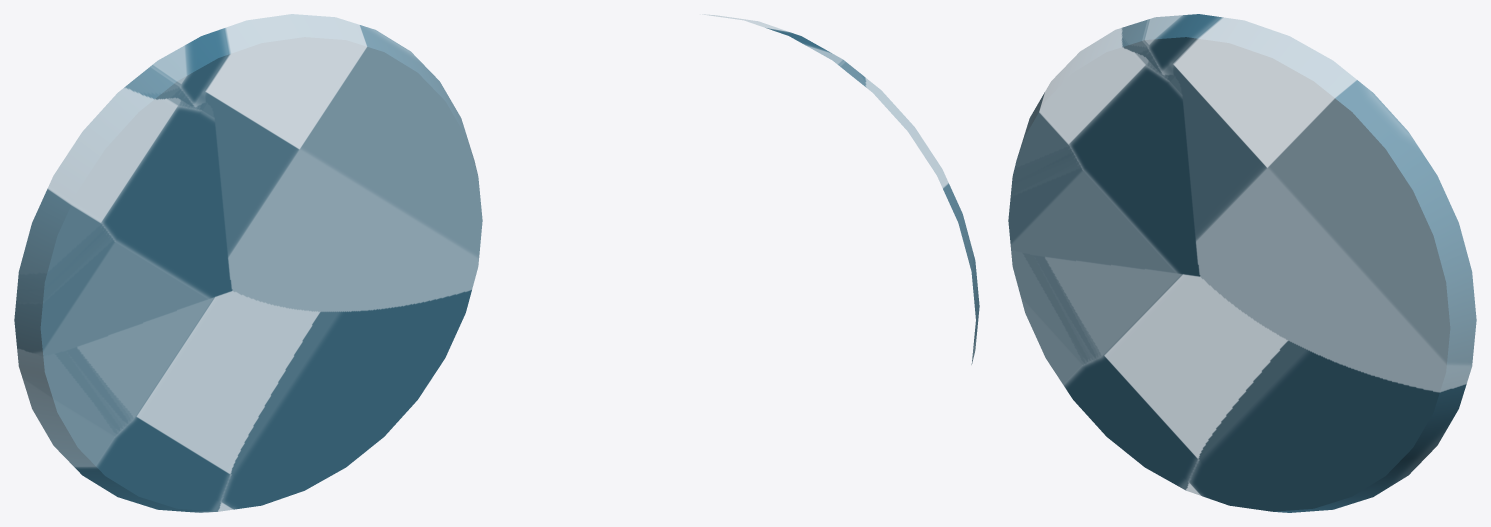
The model's file is Cube-Test_hover.glb.
The picture shows the model from 3 angles, left to right: view 1: azimuth 30°, elevation 25°; view 2: azimuth 150°, elevation 25°; view 3: azimuth 330°, elevation 25°; orthographic projection.
Visible parts, largest first — view 1: Cube.001; view 2: Cube.001; view 3: Cube.001.
Part boxes in pixels (x1=…): Cube.001: x1=14, y1=14, x2=482, y2=512; Cube.001: x1=709, y1=15, x2=979, y2=364; Cube.001: x1=1008, y1=14, x2=1476, y2=512.
Size of the model in its own units: 1.64 by 1.64 by 0.0912.
Materials: 1 (1 with a texture image).
